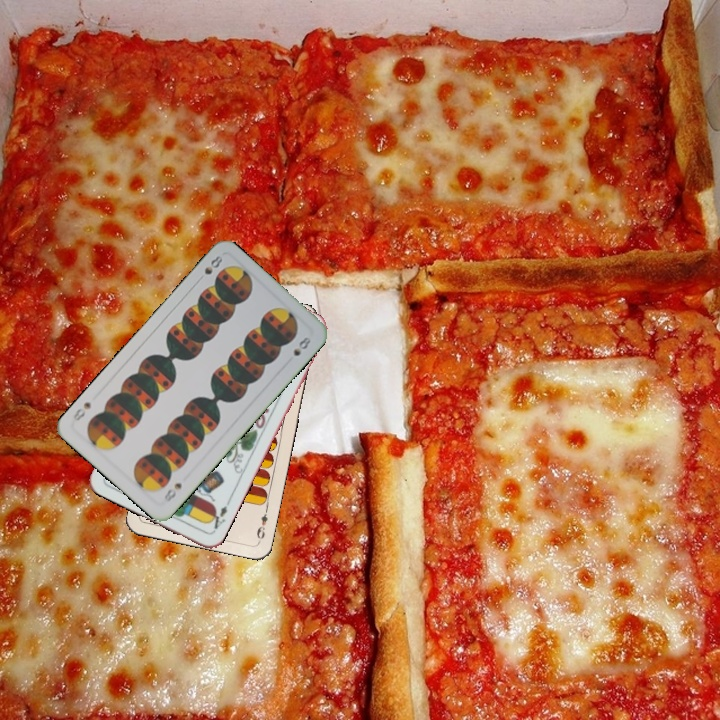E9: (252, 504, 270, 544)
EA: (205, 502, 230, 535)
S8: (200, 251, 225, 277), (160, 479, 184, 505)
